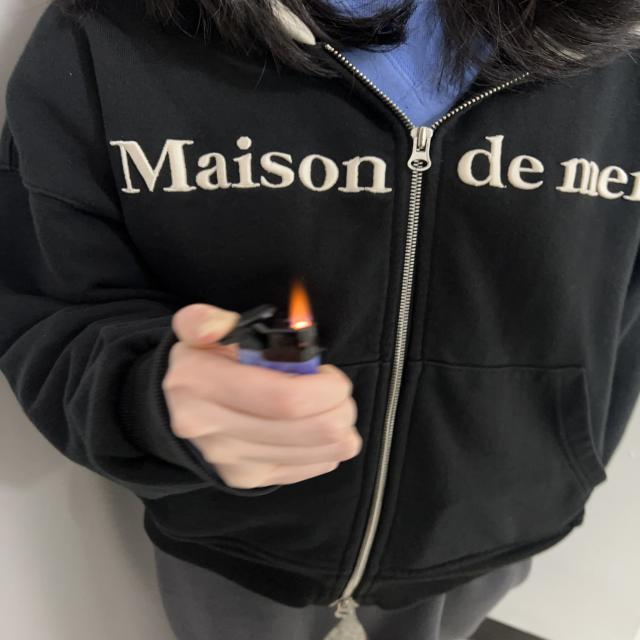fire: (286, 281, 316, 330)
